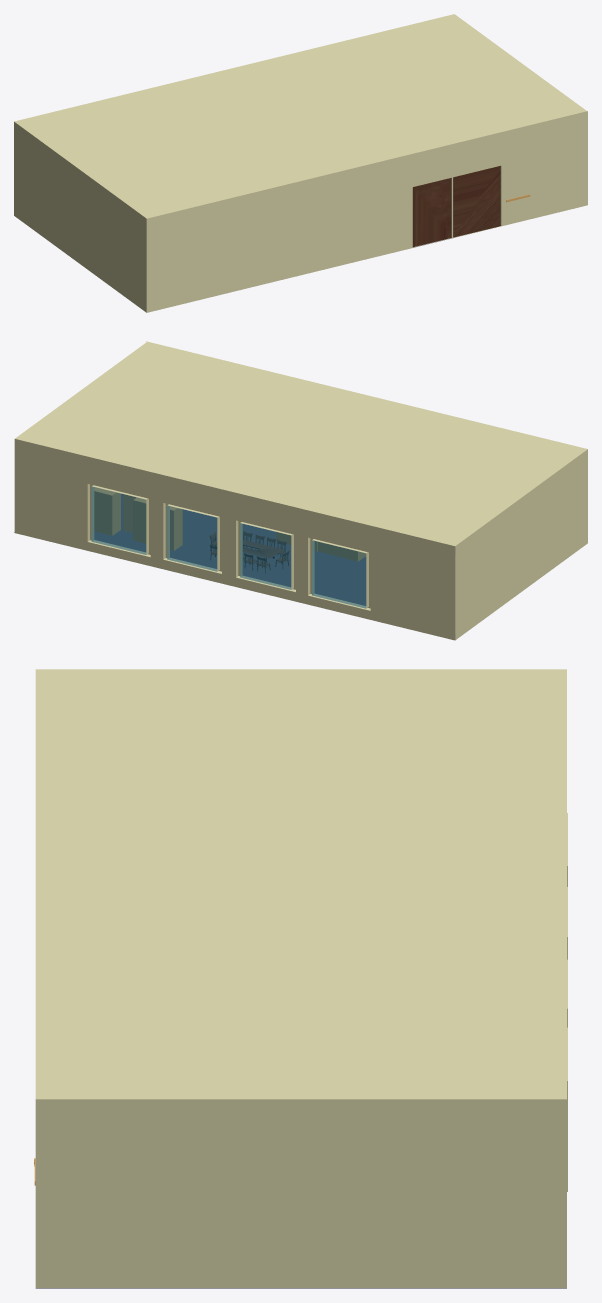
Rendered from Library.glb.
3 renders of one model, top to bottom at view 1: azimuth 30°, elevation 25°; view 2: azimuth 150°, elevation 25°; view 3: azimuth 270°, elevation 25°, orthographic. The views are drawn at different scales.
Parts seen in each view (by area): view 1: Cube; view 2: Cube, Mesh635 Group23 Haworth_Immerse_table___Poppy_chair1 Model.0, library.018, library.017, library.012; view 3: Cube.
Part boxes in pixels (x1=…): Cube: x1=14, y1=14, x2=587, y2=312; Cube: x1=14, y1=341, x2=587, y2=640; Mesh635 Group23 Haworth_Immerse_table___Poppy_chair1 Model.0: x1=210, y1=531, x2=289, y2=573; library.018: x1=94, y1=487, x2=121, y2=535; library.017: x1=133, y1=497, x2=182, y2=550; library.012: x1=317, y1=541, x2=366, y2=561; Cube: x1=35, y1=669, x2=567, y2=1288.
Size of the model in its own units: 246 by 50.38 by 129.
Materials: 21 (3 with a texture image).
